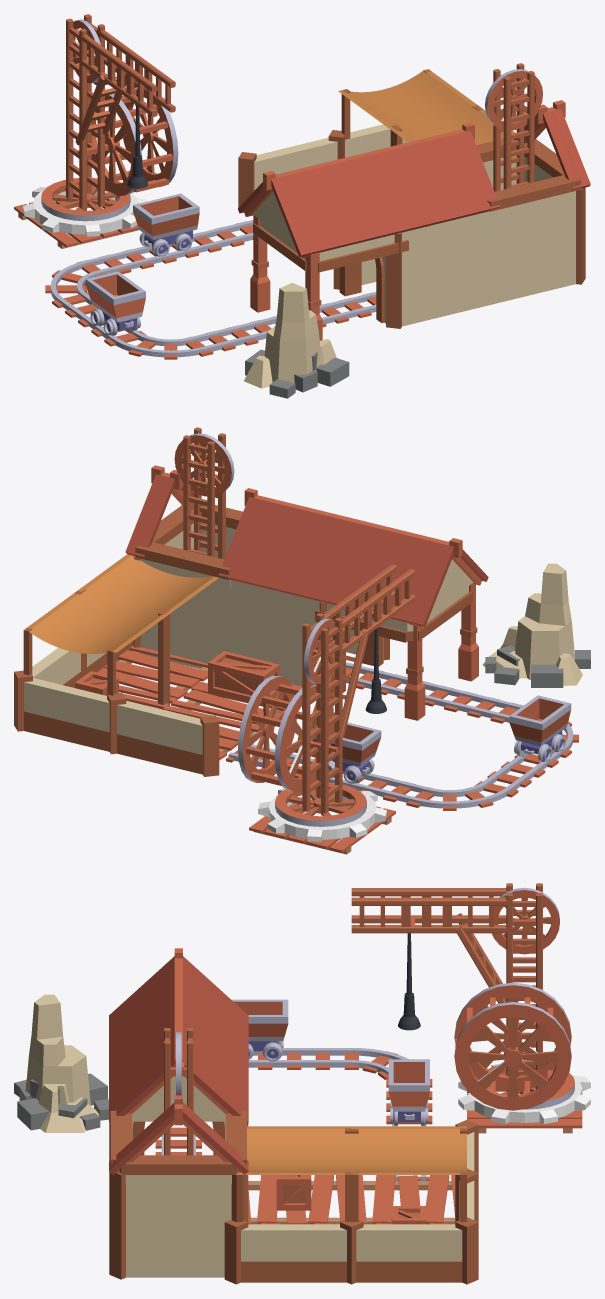
File: mine_de_fer.glb
The picture shows the model from 3 angles, top to bottom: view 1: azimuth 30°, elevation 25°; view 2: azimuth 150°, elevation 25°; view 3: azimuth 270°, elevation 25°; orthographic projection. The views are drawn at different scales.
Visible parts, largest first — view 1: mergedBlocks(Clone); view 2: mergedBlocks(Clone); view 3: mergedBlocks(Clone).
Part boxes in pixels (x1,y1,x2,y2): mergedBlocks(Clone): (14,14,590,398); mergedBlocks(Clone): (14,427,590,854); mergedBlocks(Clone): (14,883,590,1284).
Size of the model in its own units: 4.8 by 2.11 by 5.01.
1 material, 1 textured.
